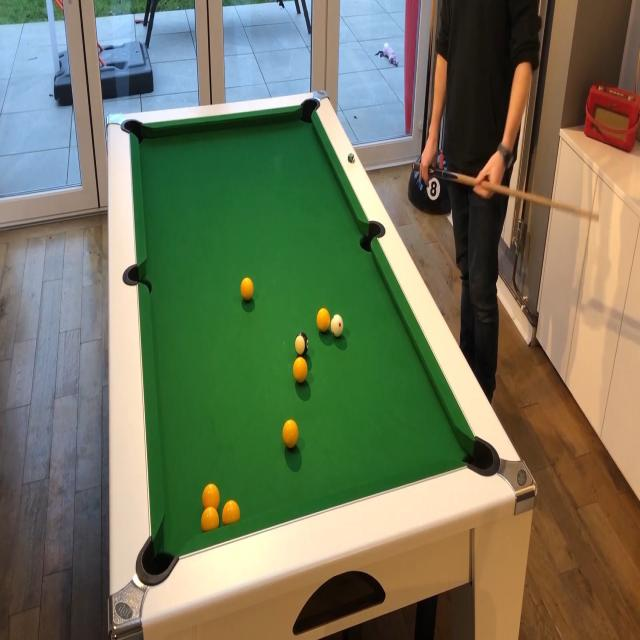Ball: (282, 419, 298, 449), (202, 483, 220, 509), (202, 507, 219, 530), (223, 500, 239, 524), (293, 358, 308, 383), (316, 309, 330, 333), (295, 332, 309, 356), (331, 314, 344, 338), (240, 278, 253, 300)
Billiard table: (107, 89, 537, 640)
